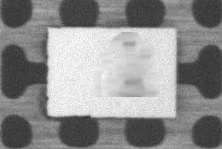DIE_INK: (136, 18, 222, 68)
